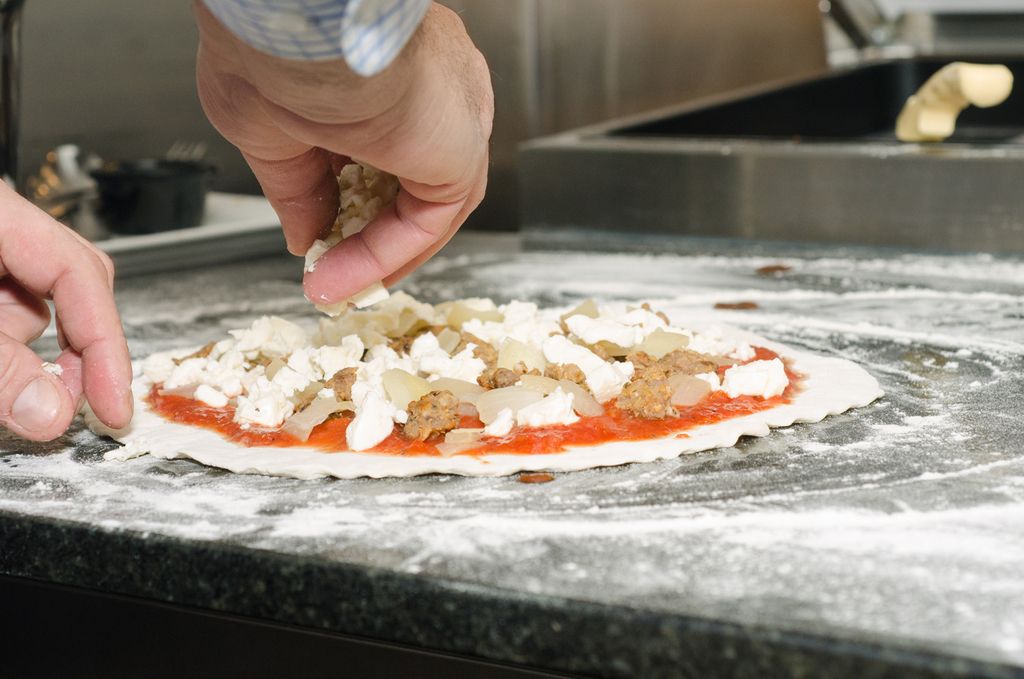Pizza: (91, 290, 877, 480)
